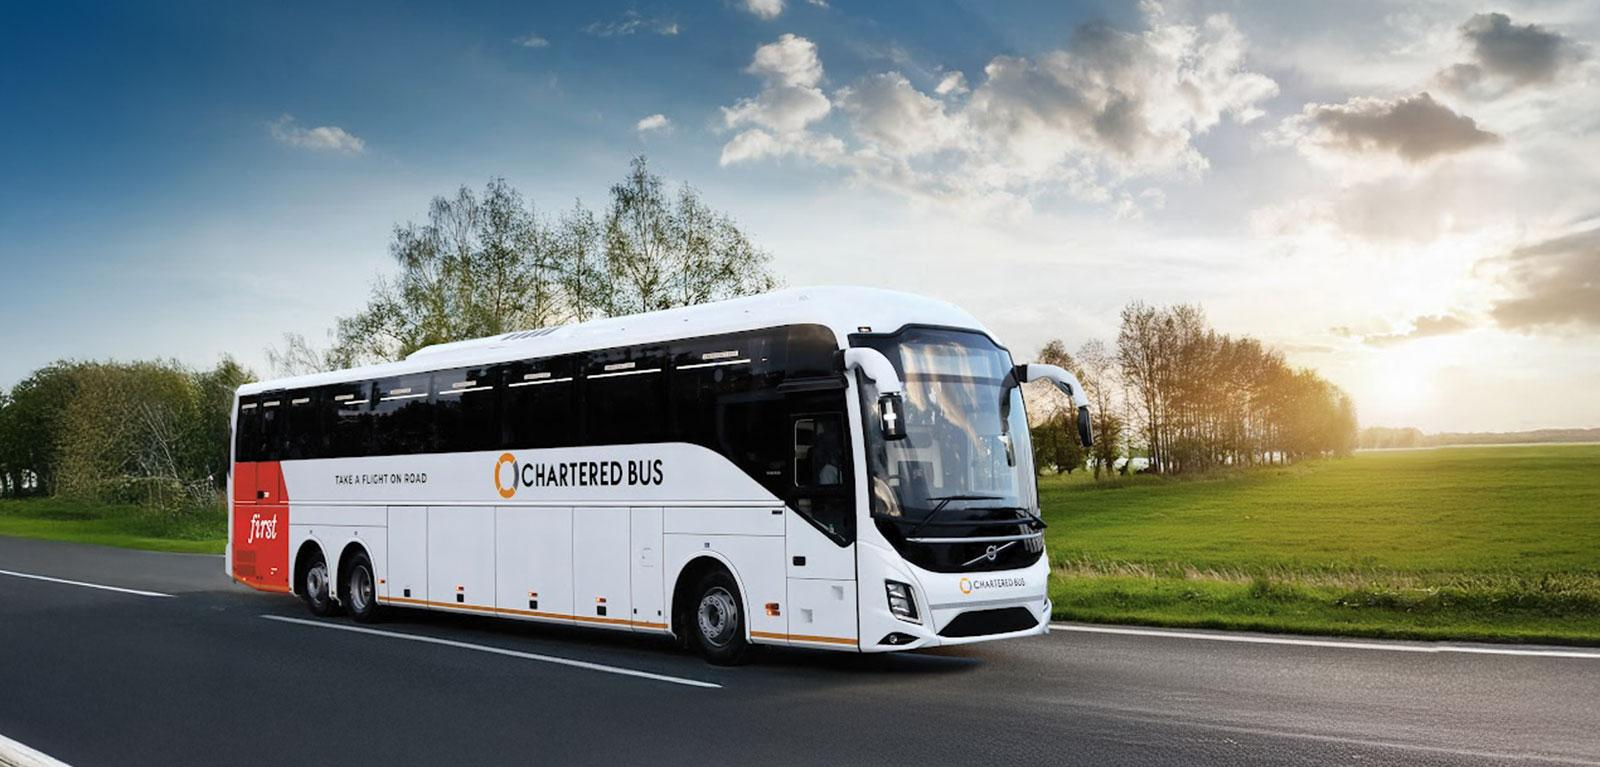bus: (218, 282, 1106, 681)
